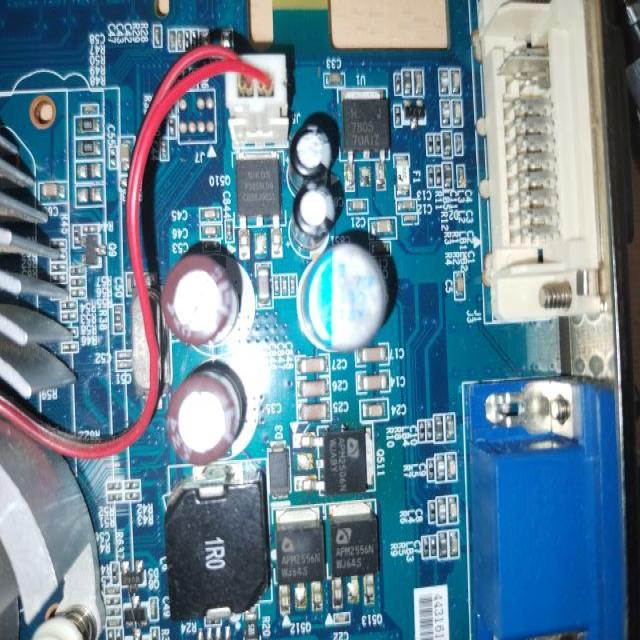resistor: (416, 521, 432, 572), (422, 452, 442, 489), (424, 494, 441, 532)
